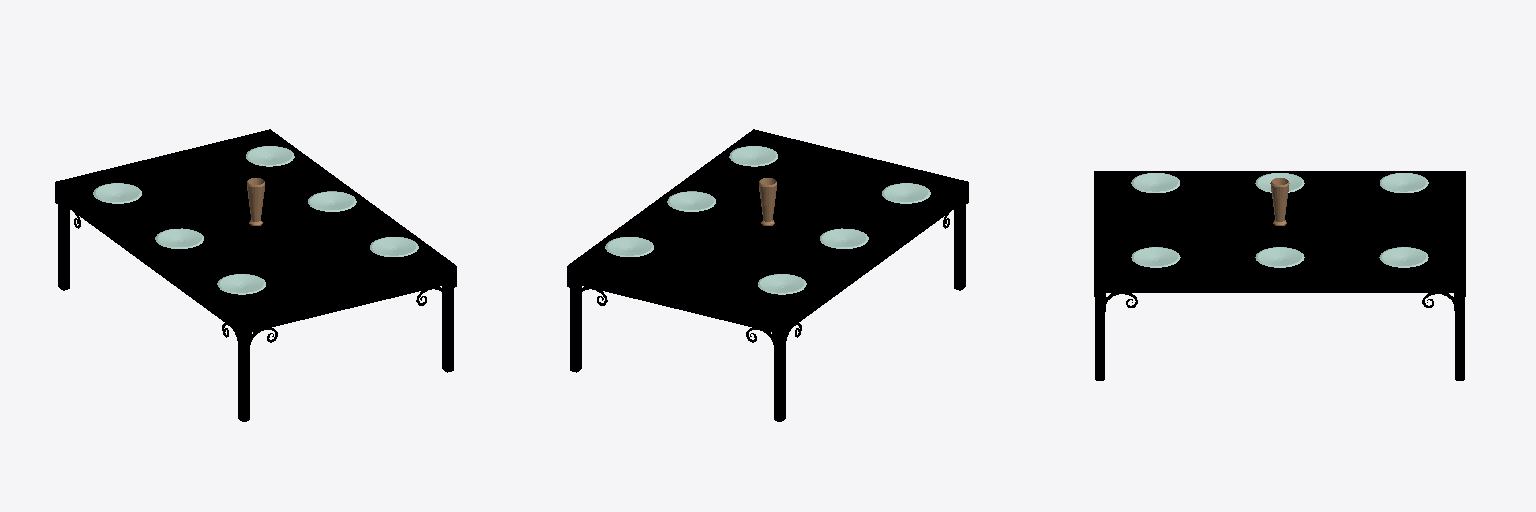
The model's file is tablepropobj.obj.
The picture shows the model from 3 angles: view 1: azimuth 30°, elevation 25°; view 2: azimuth 150°, elevation 25°; view 3: azimuth 270°, elevation 25°; orthographic projection.
Parts seen in each view (by area): view 1: polySurface10, pCylinder13, pCylinder1; view 2: polySurface10, pCylinder13, pCylinder1; view 3: polySurface10, pCylinder13, pCylinder1.
Boxes of the visible parts, box(x1,y1,x2,y2) form: polySurface10: box(55, 129, 456, 421); pCylinder13: box(93, 146, 418, 294); pCylinder1: box(247, 178, 264, 225); polySurface10: box(567, 129, 968, 421); pCylinder13: box(605, 146, 930, 294); pCylinder1: box(759, 178, 776, 225); polySurface10: box(1094, 171, 1465, 380); pCylinder13: box(1131, 173, 1428, 267); pCylinder1: box(1270, 178, 1289, 225).
Size of the model in its own units: 4 by 2.65 by 6.